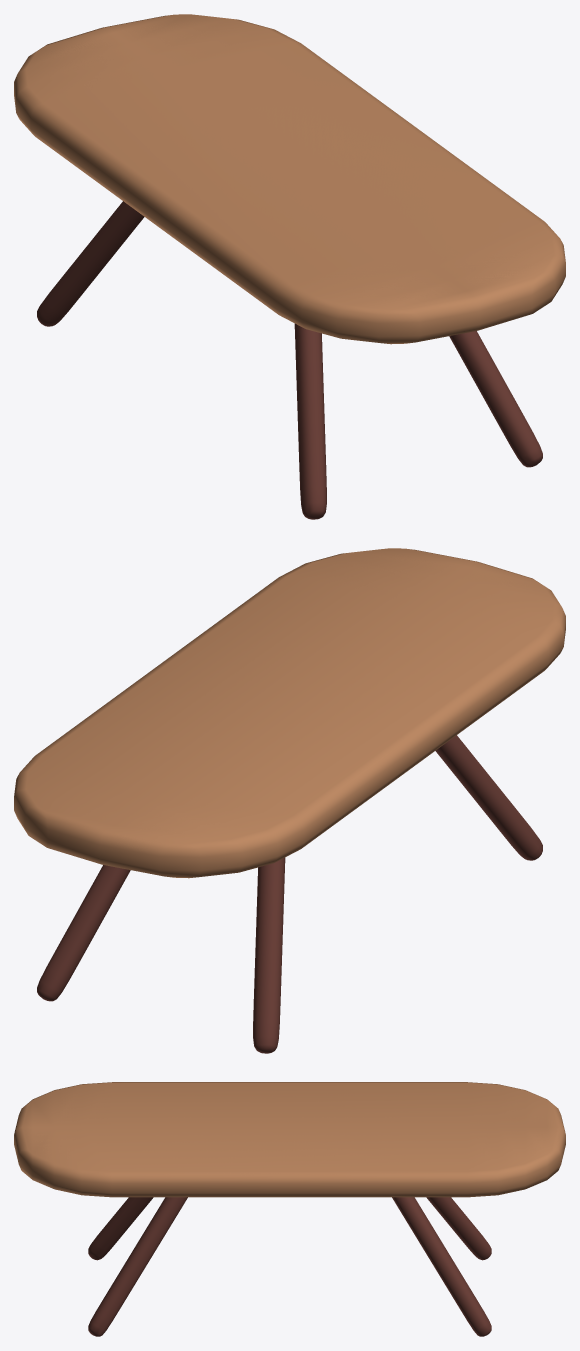
The model's file is Table.fbx.
3 renders of one model, top to bottom at view 1: azimuth 30°, elevation 25°; view 2: azimuth 150°, elevation 25°; view 3: azimuth 270°, elevation 25°, orthographic. The views are drawn at different scales.
Visible parts, largest first — view 1: Cube, Cube.001; view 2: Cube, Cube.001; view 3: Cube, Cube.001.
Part boxes in pixels (x1=…): Cube: x1=14, y1=14, x2=565, y2=344; Cube.001: x1=37, y1=201, x2=542, y2=519; Cube: x1=14, y1=548, x2=565, y2=878; Cube.001: x1=37, y1=735, x2=542, y2=1053; Cube: x1=14, y1=1082, x2=565, y2=1197; Cube.001: x1=88, y1=1197, x2=491, y2=1336.
Bounding box in the file's own units: 200 × 164 × 481.
